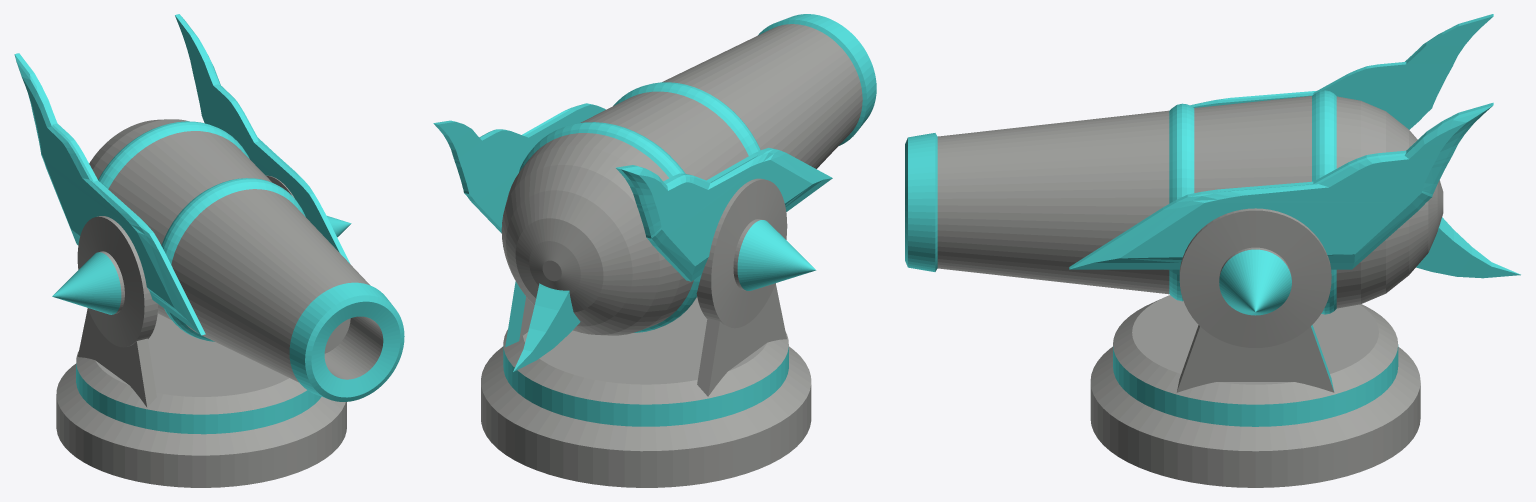
File: cannon_upgraded_ice.fbx
3 views of the same model, side by side, from view 1: azimuth 30°, elevation 25°; view 2: azimuth 150°, elevation 25°; view 3: azimuth 270°, elevation 25° (orthographic). The views are drawn at different scales.
Visible parts, largest first — view 1: Circle; view 2: Circle; view 3: Circle.
Boxes of the visible parts, left/top/right/bottom form: Circle: left=14, top=14, right=404, bottom=487; Circle: left=433, top=14, right=876, bottom=487; Circle: left=905, top=14, right=1520, bottom=487.
Size of the model in its own units: 276 by 277 by 432.
1 material, 1 textured.
